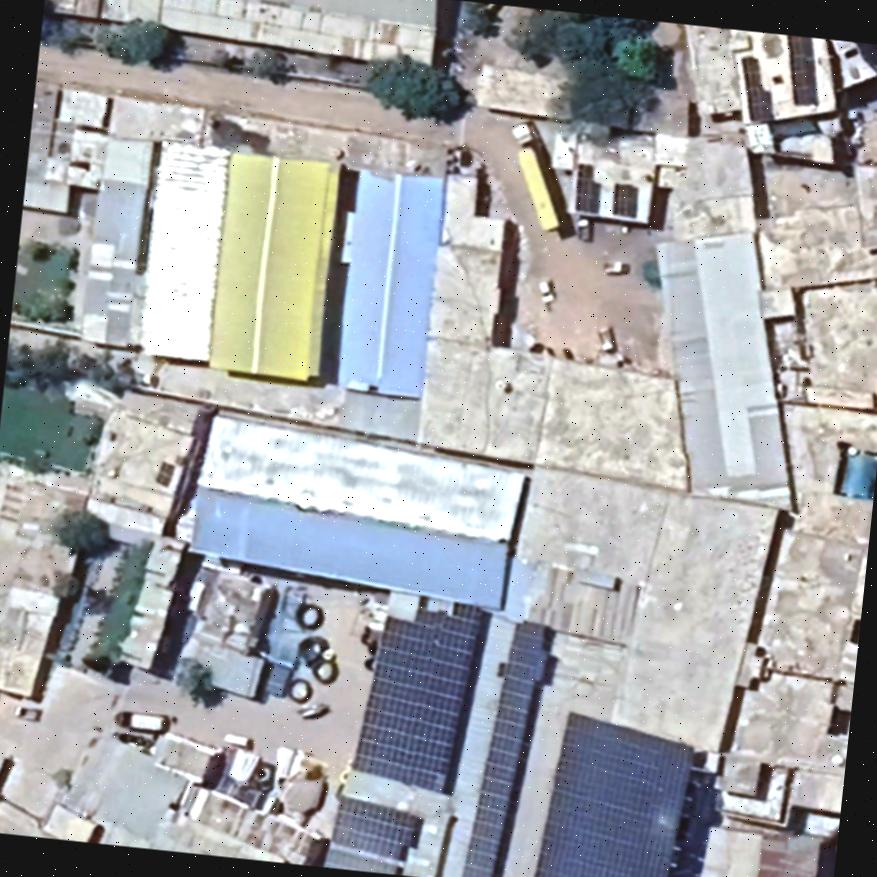Solarpanel: (350, 588, 489, 799), (531, 708, 695, 877), (460, 615, 555, 877), (326, 794, 424, 860), (741, 52, 775, 126), (786, 36, 819, 106), (573, 161, 602, 215), (613, 181, 638, 219), (154, 460, 176, 487)
